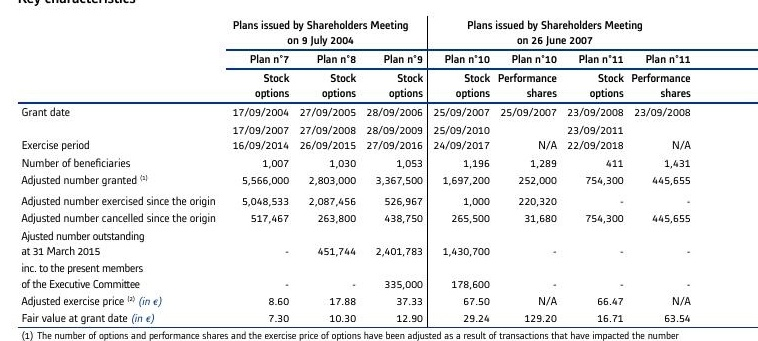table: (0, 0, 758, 341)
